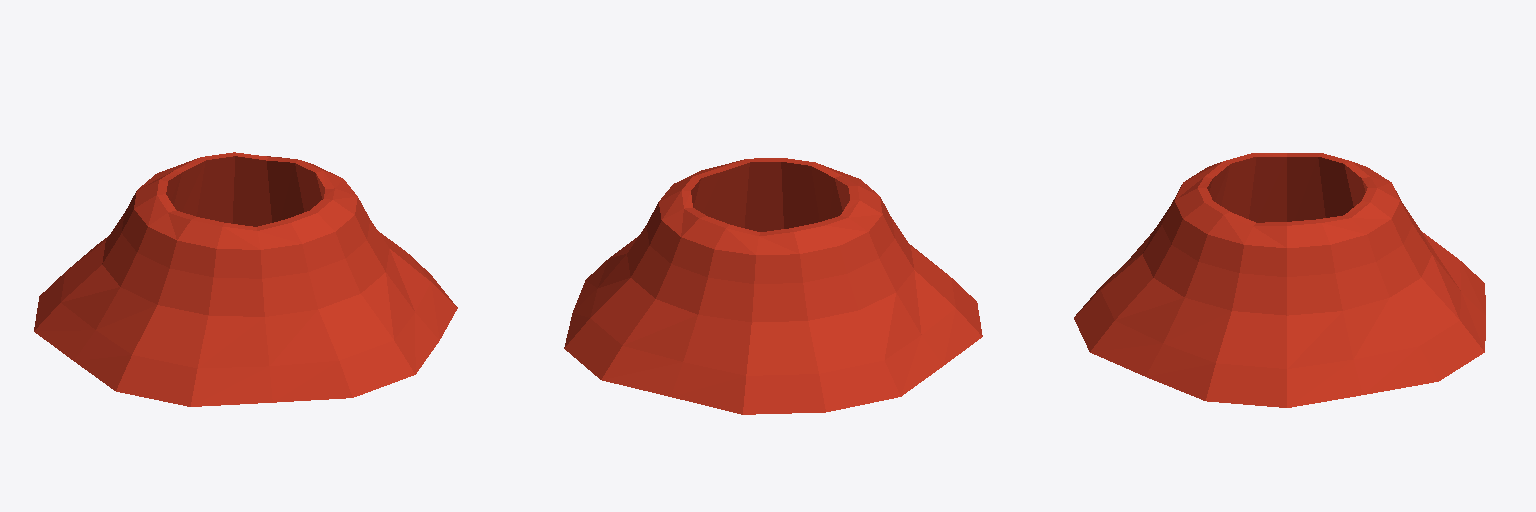
File: Hole.obj
3 renders of one model, left to right at view 1: azimuth 30°, elevation 25°; view 2: azimuth 150°, elevation 25°; view 3: azimuth 270°, elevation 25°, orthographic.
Parts seen in each view (by area): view 1: Cylinder_Cylinder_Material.003; view 2: Cylinder_Cylinder_Material.003; view 3: Cylinder_Cylinder_Material.003.
Part boxes in pixels (x1,y1,x2,y2): Cylinder_Cylinder_Material.003: (34, 152, 457, 406); Cylinder_Cylinder_Material.003: (564, 158, 982, 414); Cylinder_Cylinder_Material.003: (1074, 153, 1485, 407).
Bounding box in the file's own units: 7.18 × 2.49 × 7.18.